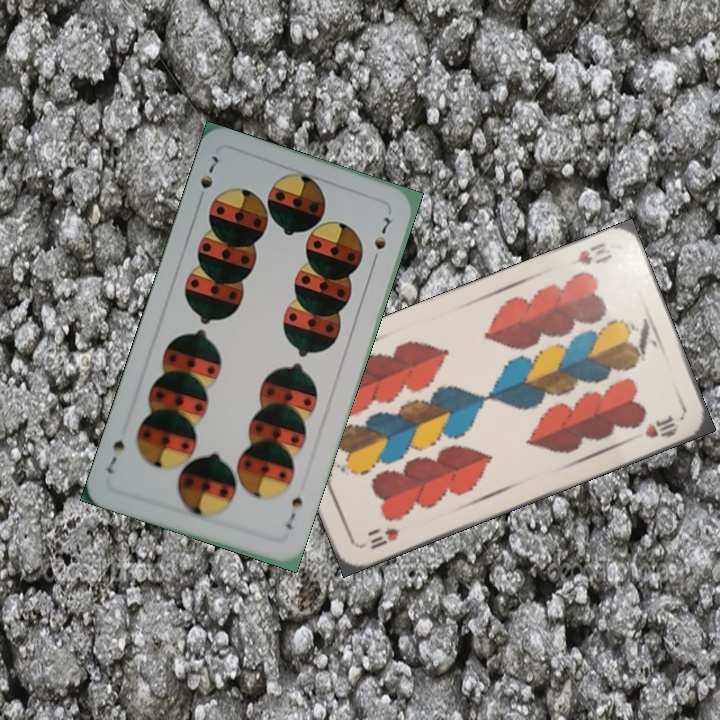H10: (564, 238, 615, 268), (357, 522, 401, 552)
S7: (193, 151, 222, 207), (282, 492, 305, 532)
